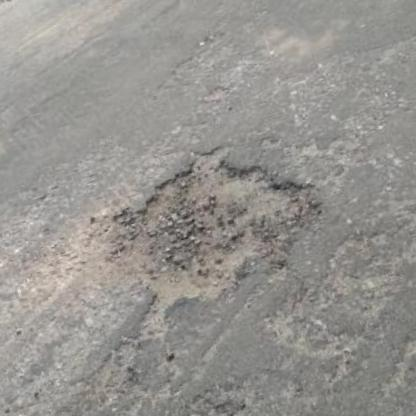pothole: (67, 119, 341, 333)
